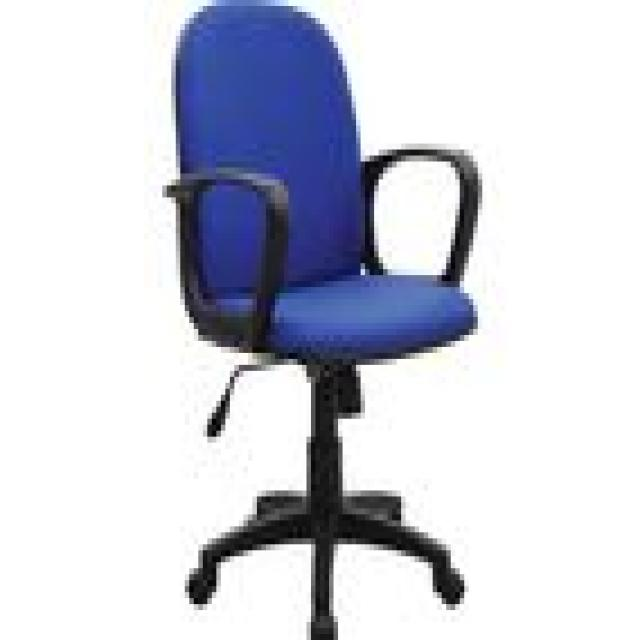others: (131, 6, 500, 634)
